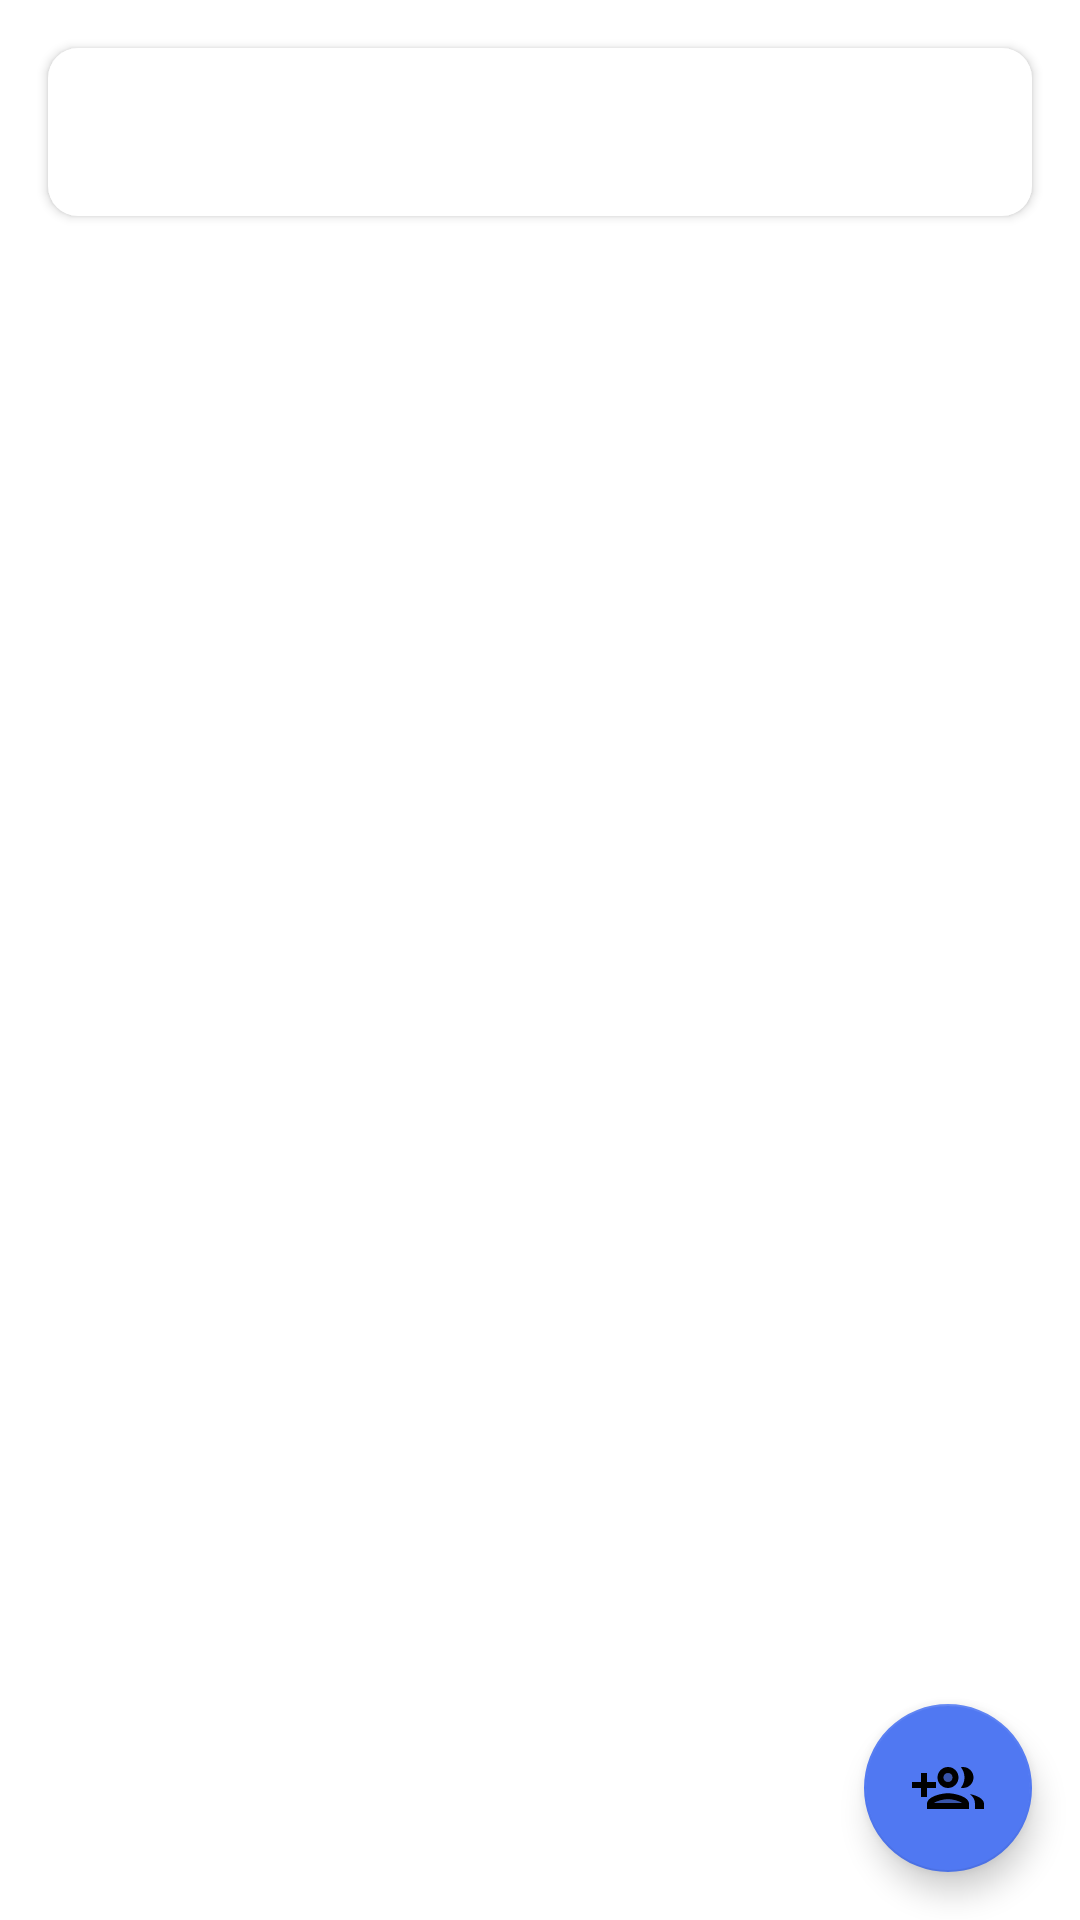

Icon click points for this 1080px x 1920px phone screenshot, format point (x, y):
gadd: point (948, 1788)
